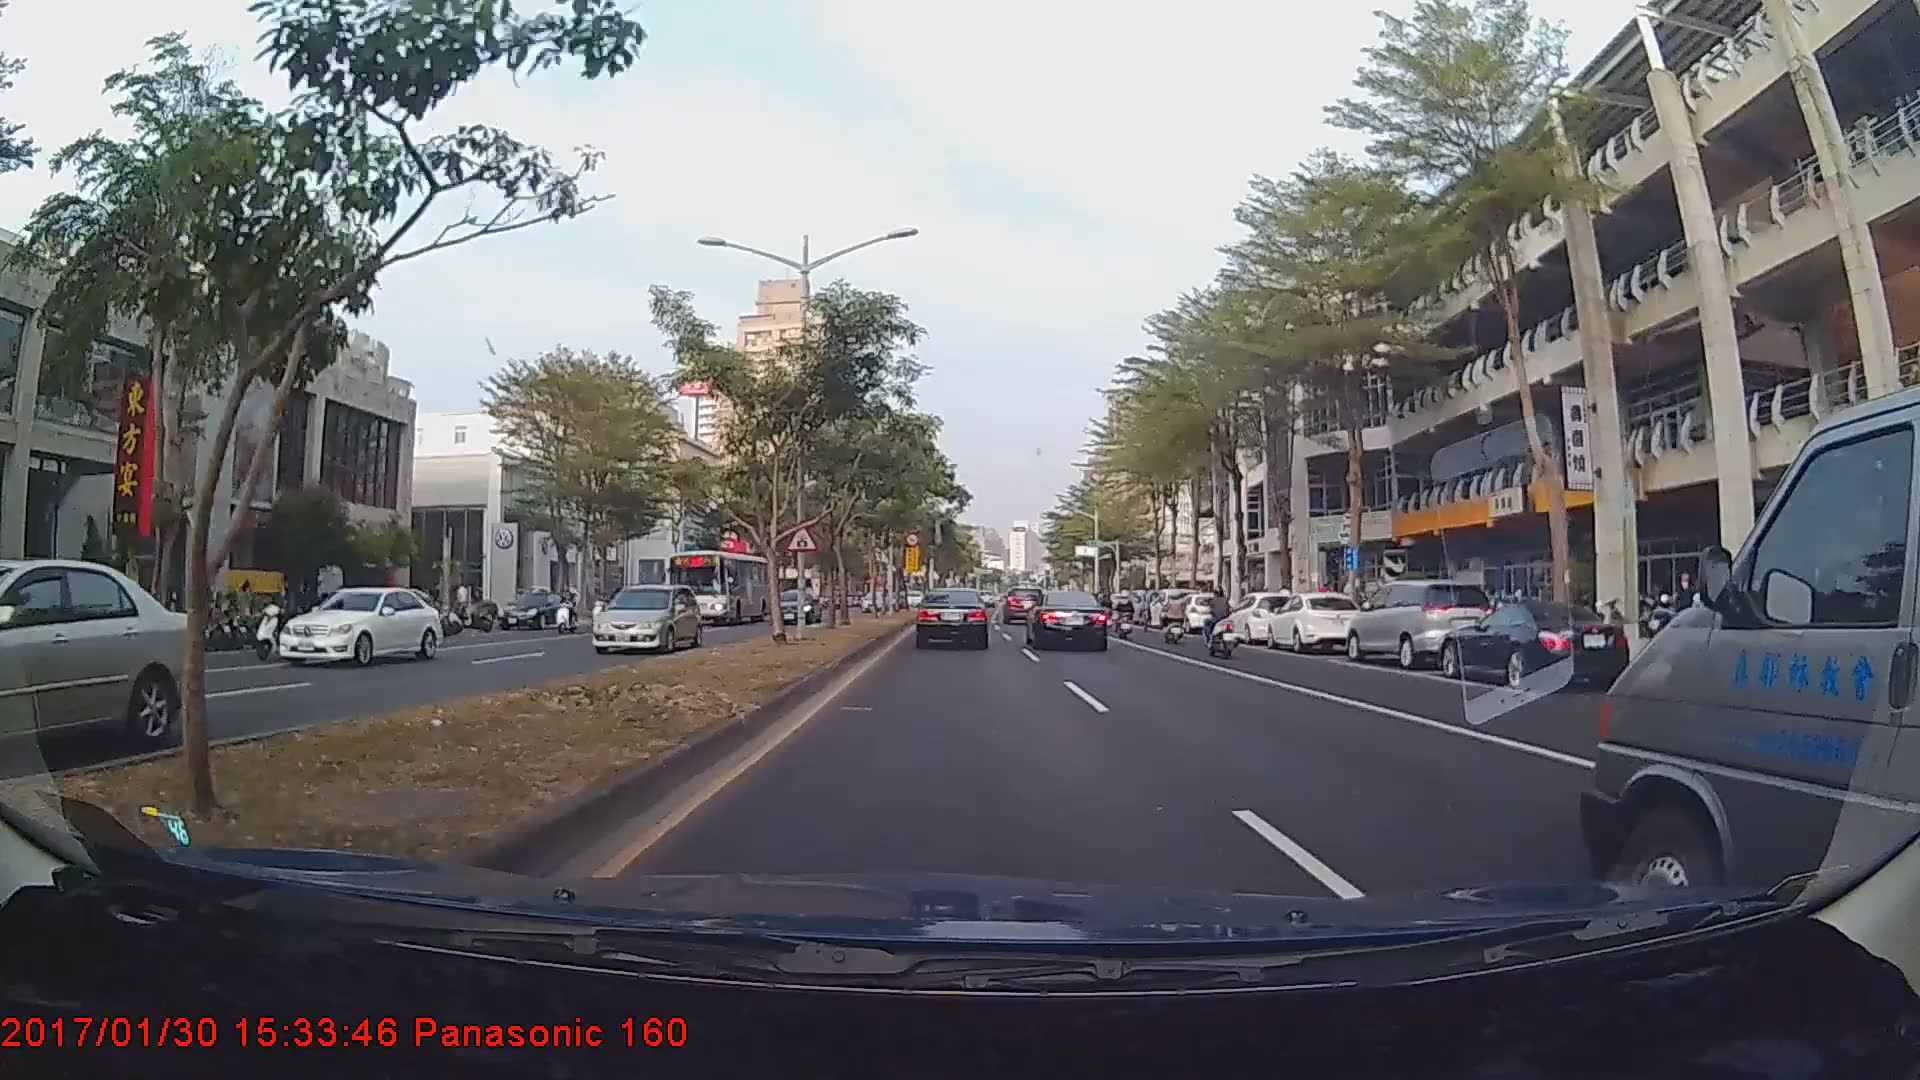rider: (251, 578, 310, 658), (1199, 582, 1247, 660), (1150, 590, 1200, 646), (553, 585, 583, 634), (1110, 586, 1137, 639)
vehicle: (1593, 433, 1912, 887), (1439, 602, 1629, 689), (1347, 571, 1502, 667), (276, 584, 445, 668), (588, 580, 700, 653), (667, 547, 771, 625), (1264, 587, 1366, 648), (1027, 588, 1110, 652), (917, 586, 989, 649), (1221, 588, 1302, 643), (1171, 590, 1229, 630), (769, 588, 817, 622), (1005, 580, 1046, 619)
